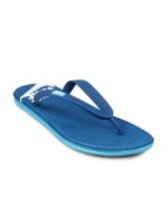shoes: (11, 72, 154, 159)
